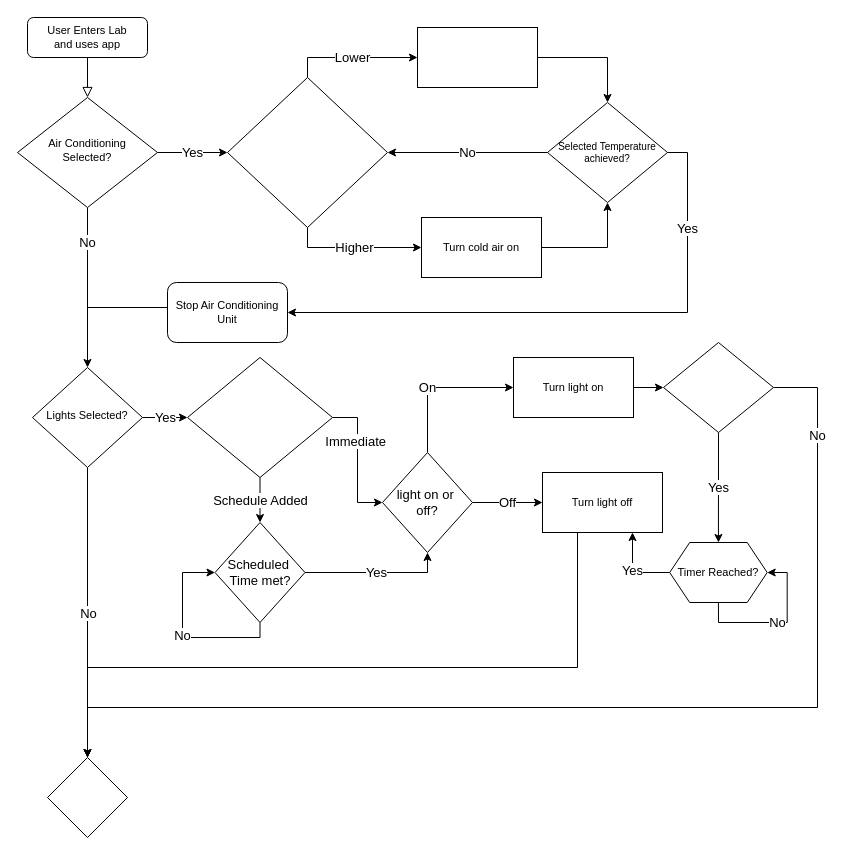
The diagram is 843 pixels wide and 855 high, and some of its shapes have lost their labels. Each missing label, with the centre of its shape:
"Immediate response or Scheduled response" goes at point 259,417.
"Off Timer enabled?" goes at point 718,387.
"Temperature Selected Higher or lower than room Temperature?" goes at point 307,152.
"Toilet Selected" goes at point 87,797.
"Turn hot air on" goes at point 477,57.
